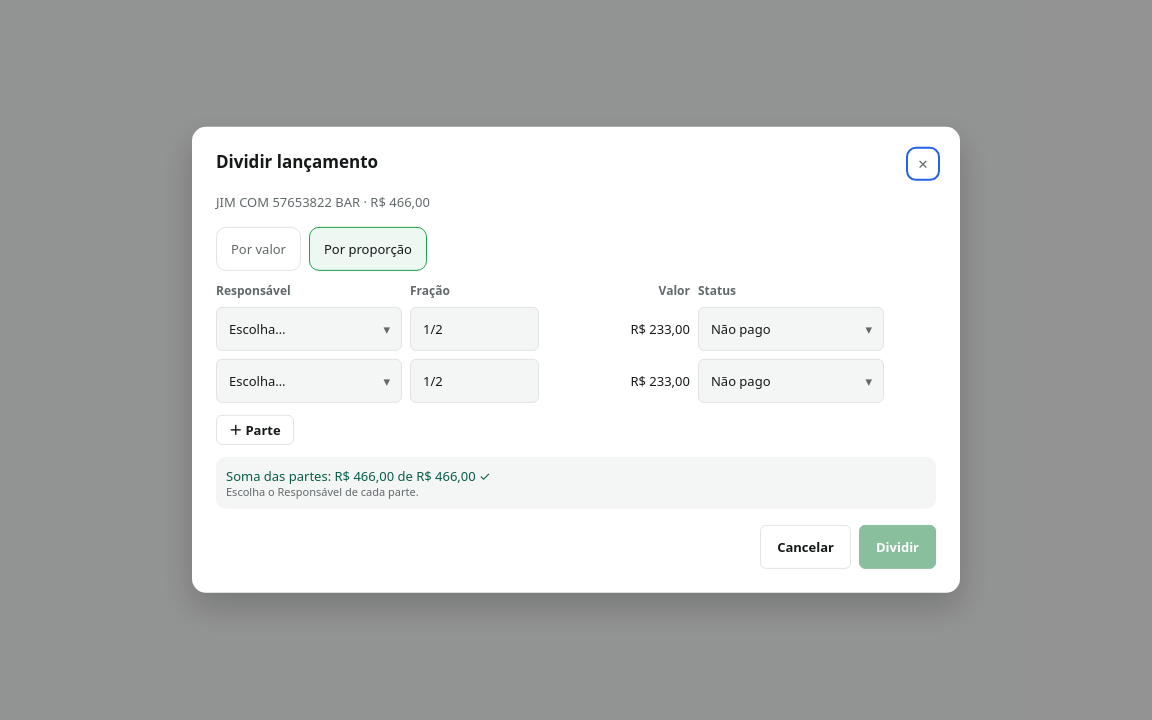
Scenario: JanelaDividir › Por valor: a soma tem de bater com o Valor, e o rodapé mostra o que foi digitado
The width and height of the screenshot is (1152, 720).
Click the button "Por valor".
click(258, 249)  # box left=216, top=227, right=301, bottom=271
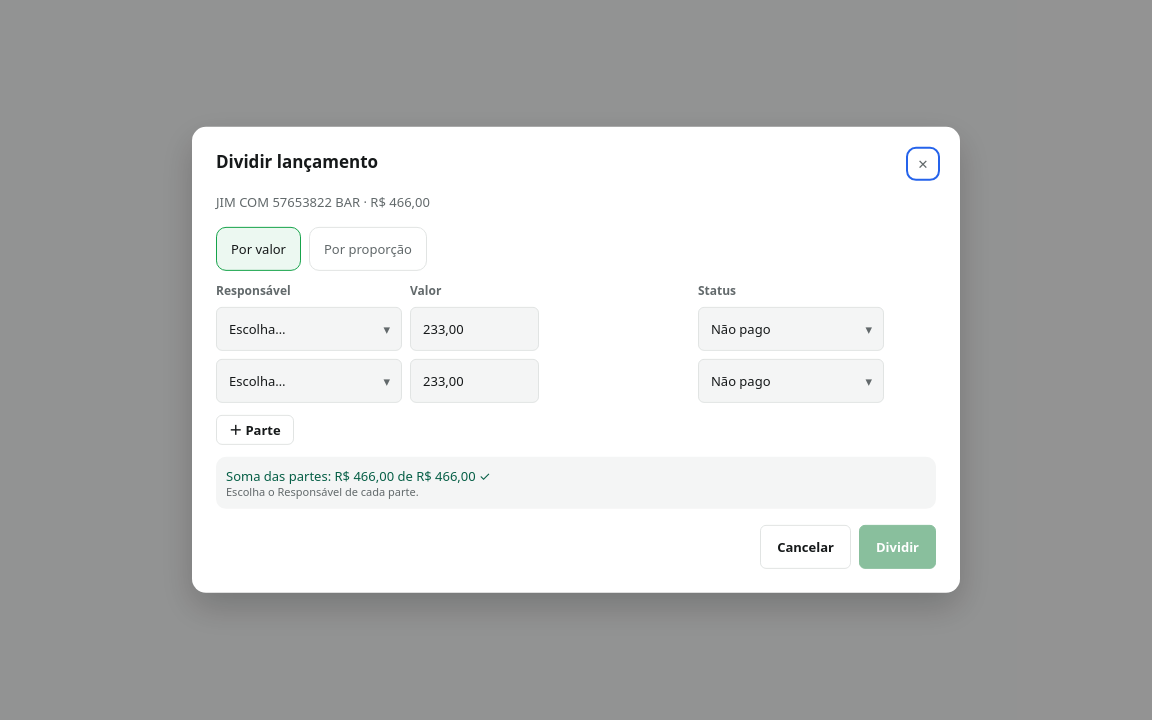
Select "Mãe" in the dropdown named "Responsável 1" at (309, 329), box left=216, top=307, right=402, bottom=351
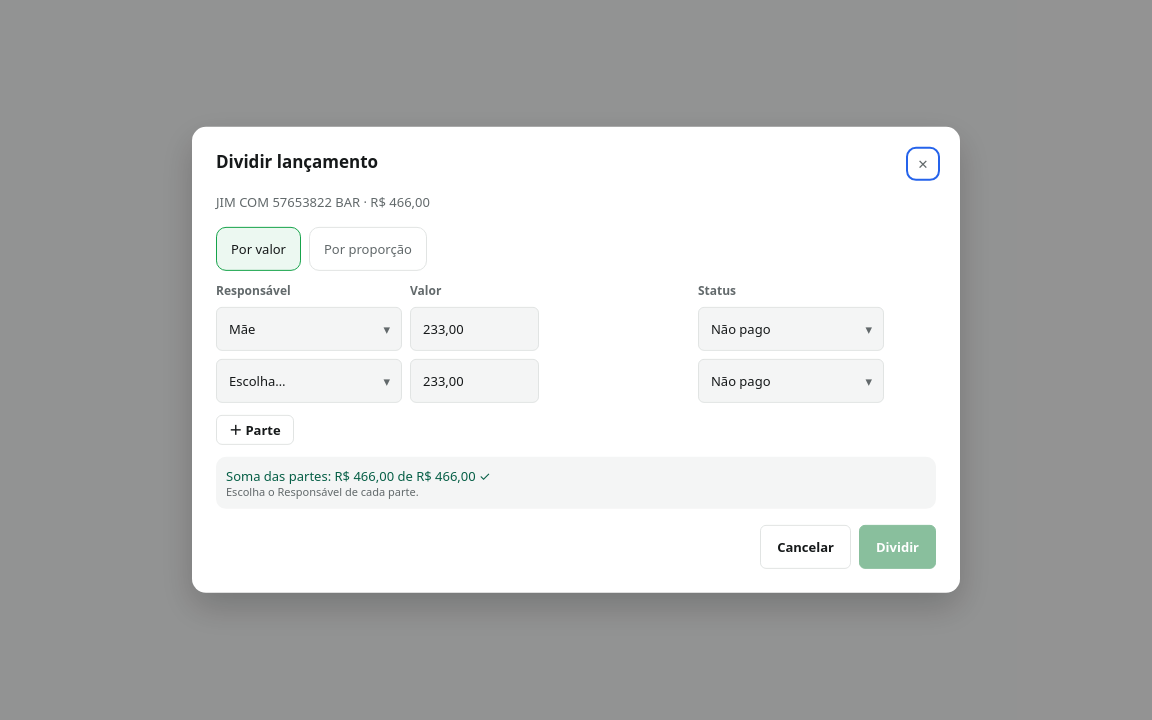
Select "Rafael" in the dropdown named "Responsável 2" at (309, 381), box left=216, top=359, right=402, bottom=403
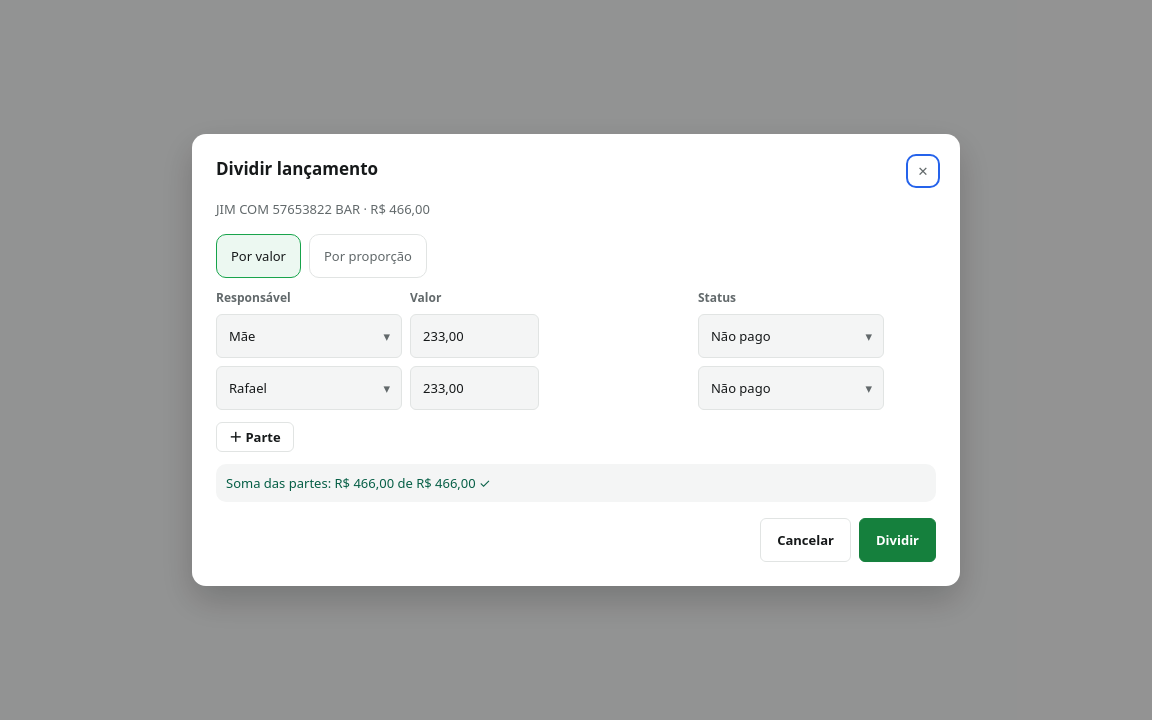
Replace the text in the field named "Valor 1" with "310,67" at (474, 336), box left=410, top=314, right=539, bottom=358
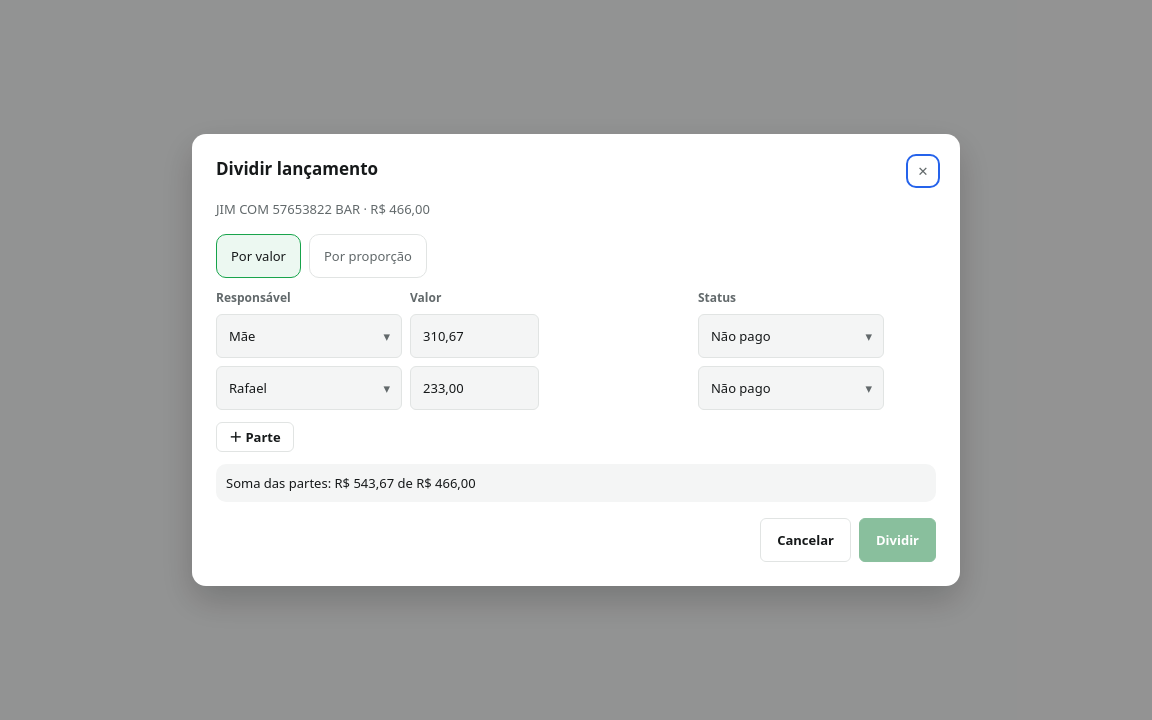
Replace the text in the field named "Valor 2" with "150,00" at (474, 388), box left=410, top=366, right=539, bottom=410
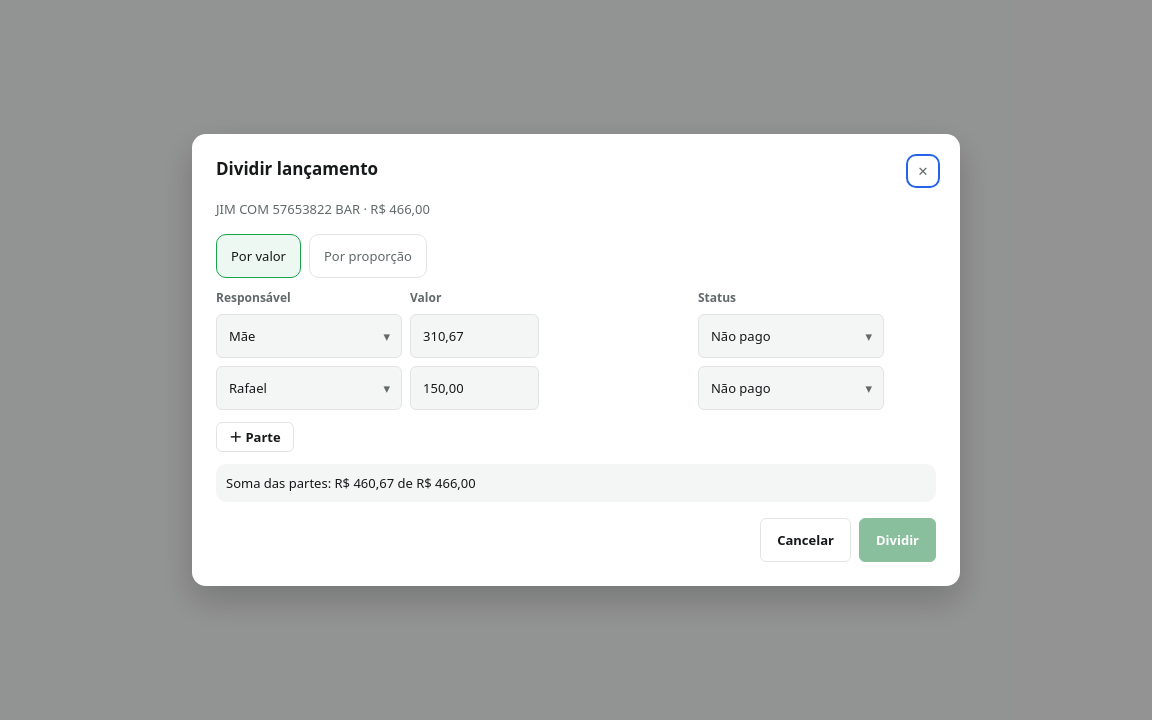
Expected: the button "Dividir" is disabled, left=859, top=518, right=936, bottom=562
Expected: the text "Soma das partes: R$ 460,67 de R$ 466,00" is shown, left=226, top=474, right=476, bottom=492
Replace the text in the field named "Valor 2" with "155,33" at (474, 388), box left=410, top=366, right=539, bottom=410
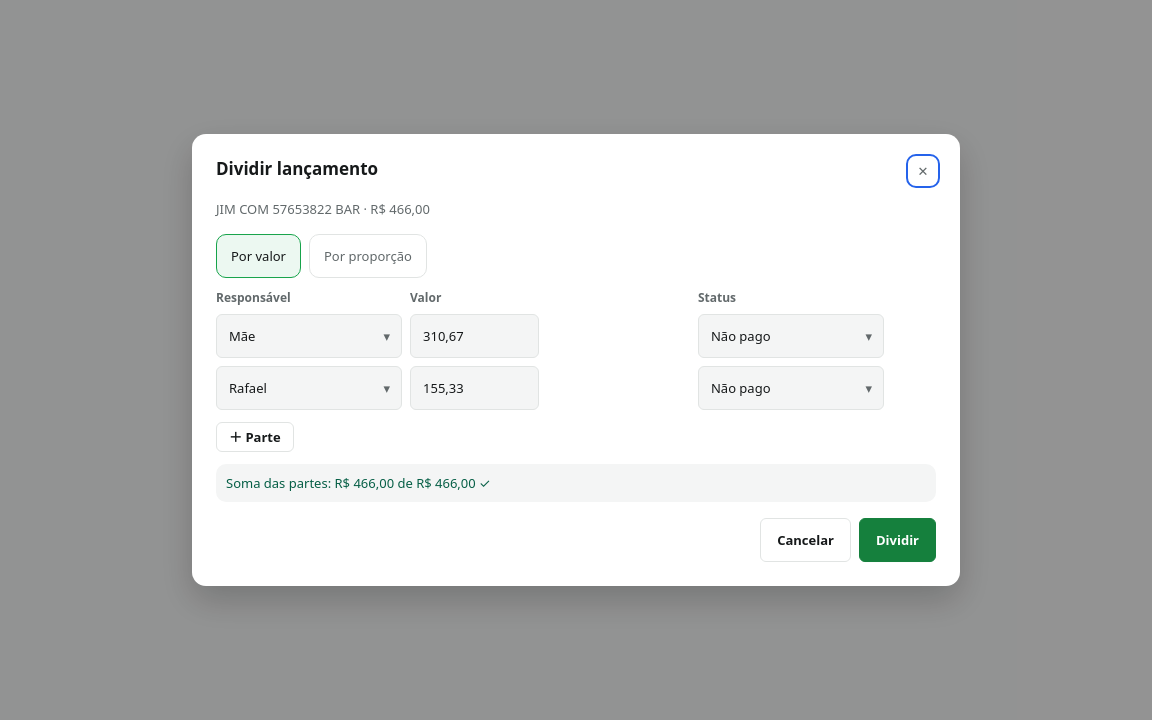
Expected: the button "Dividir" is enabled, left=859, top=518, right=936, bottom=562
